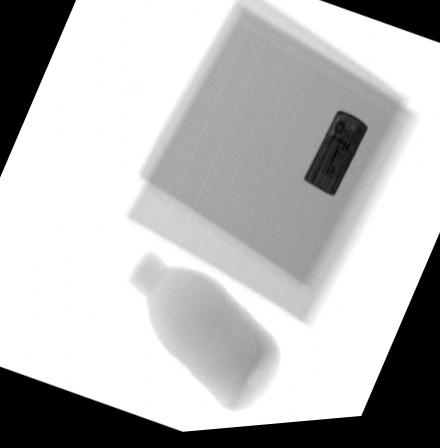Lighter: (302, 115, 369, 203)
